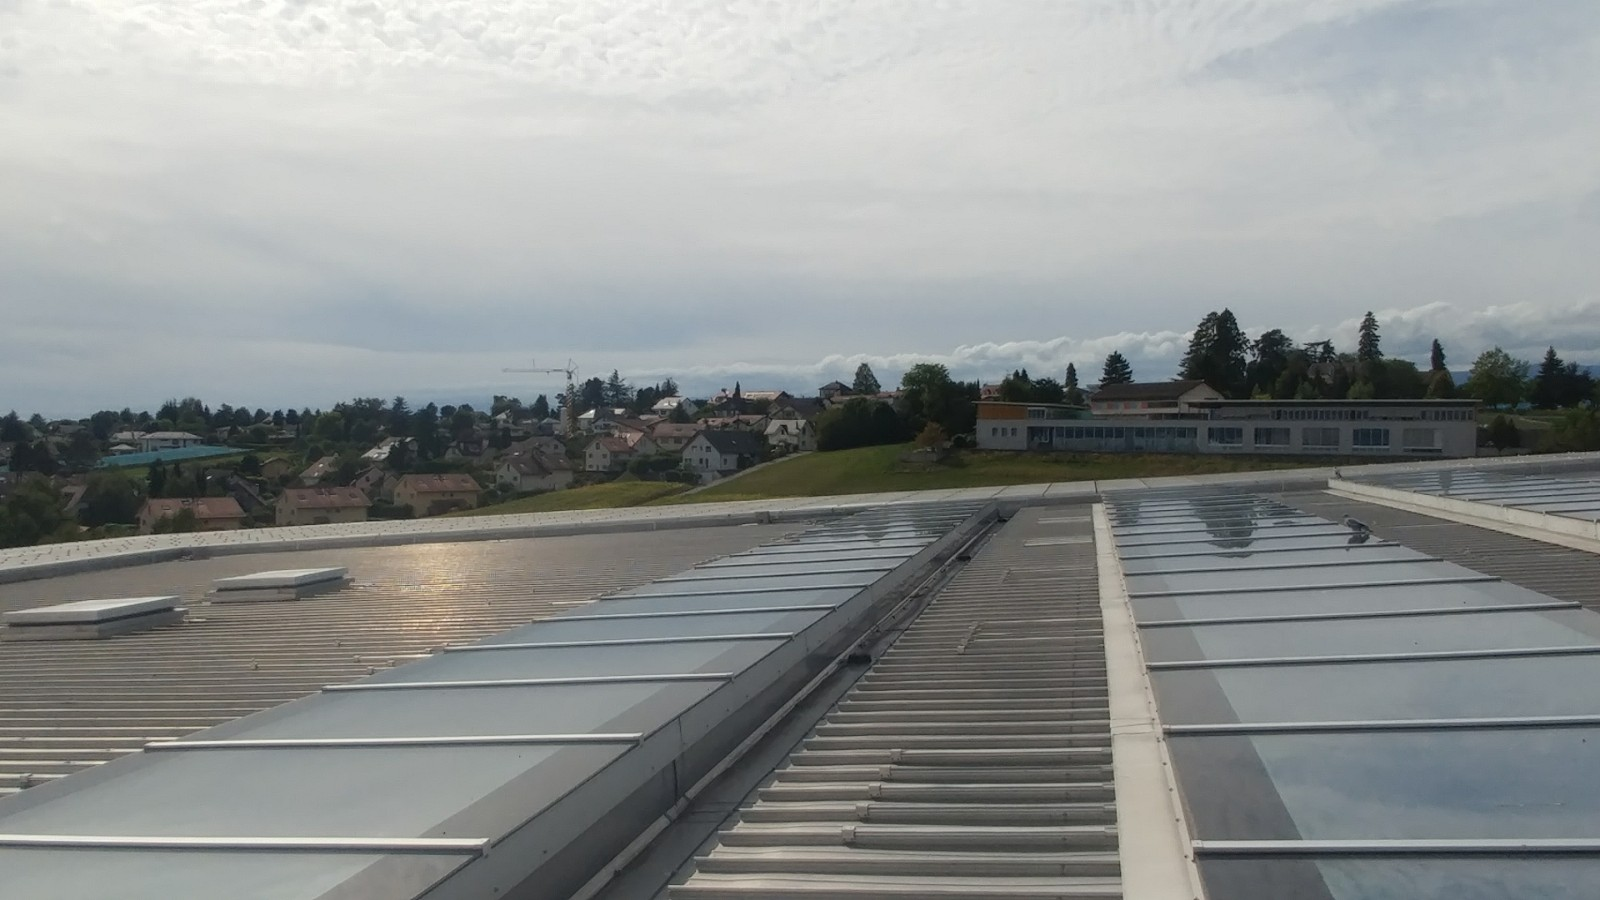Pigeon: (1337, 510, 1373, 537)
